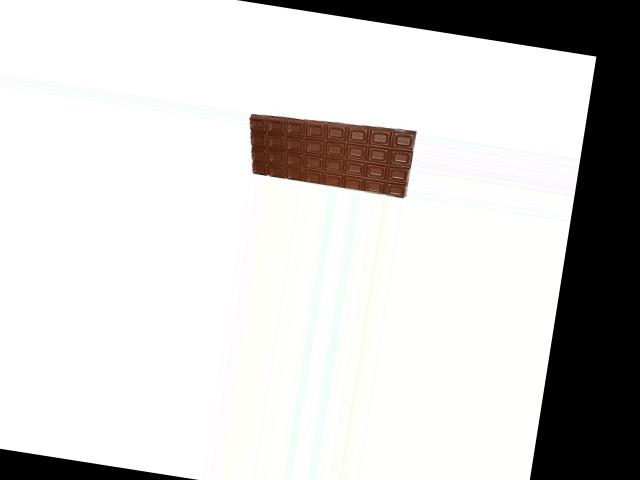chocolate: (239, 107, 418, 198)
